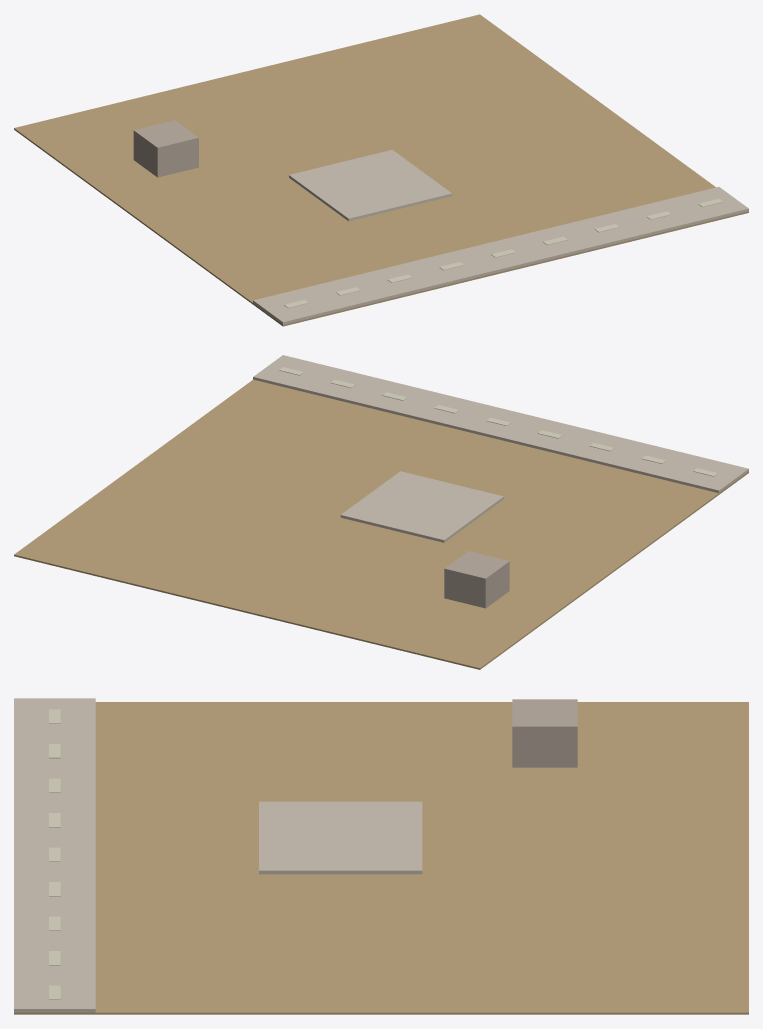
File: stage_02.glb
3 views of the same model, one above another, from view 1: azimuth 30°, elevation 25°; view 2: azimuth 150°, elevation 25°; view 3: azimuth 270°, elevation 25° (orthographic). The views are drawn at different scales.
Parts seen in each view (by area): view 1: geometry_0; view 2: geometry_0; view 3: geometry_0.
Boxes of the visible parts, x1,y1,x2,y2 form: geometry_0: [14, 14, 748, 326]; geometry_0: [14, 355, 748, 669]; geometry_0: [14, 698, 748, 1014].
Bounding box in the file's own units: 9 × 0.58 × 9.
